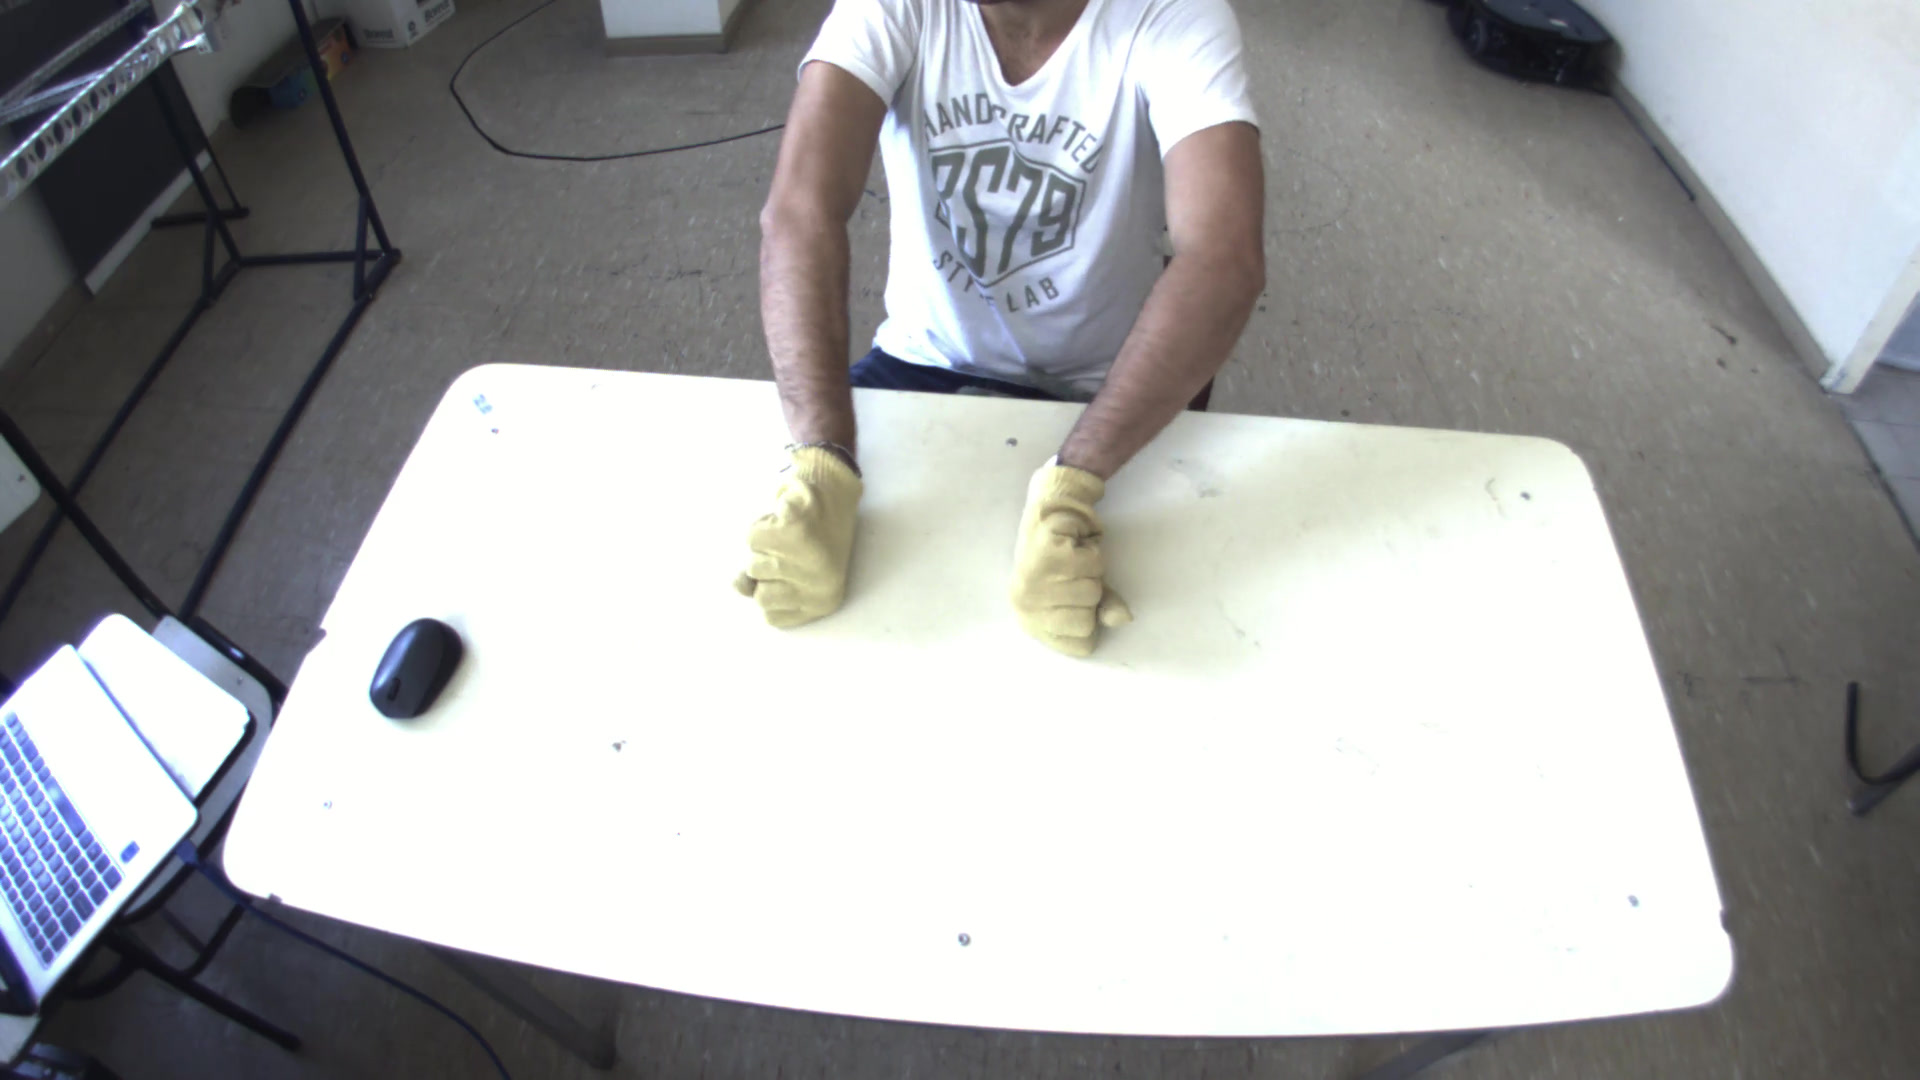hand: (727, 436, 873, 638), (1004, 447, 1127, 662)
